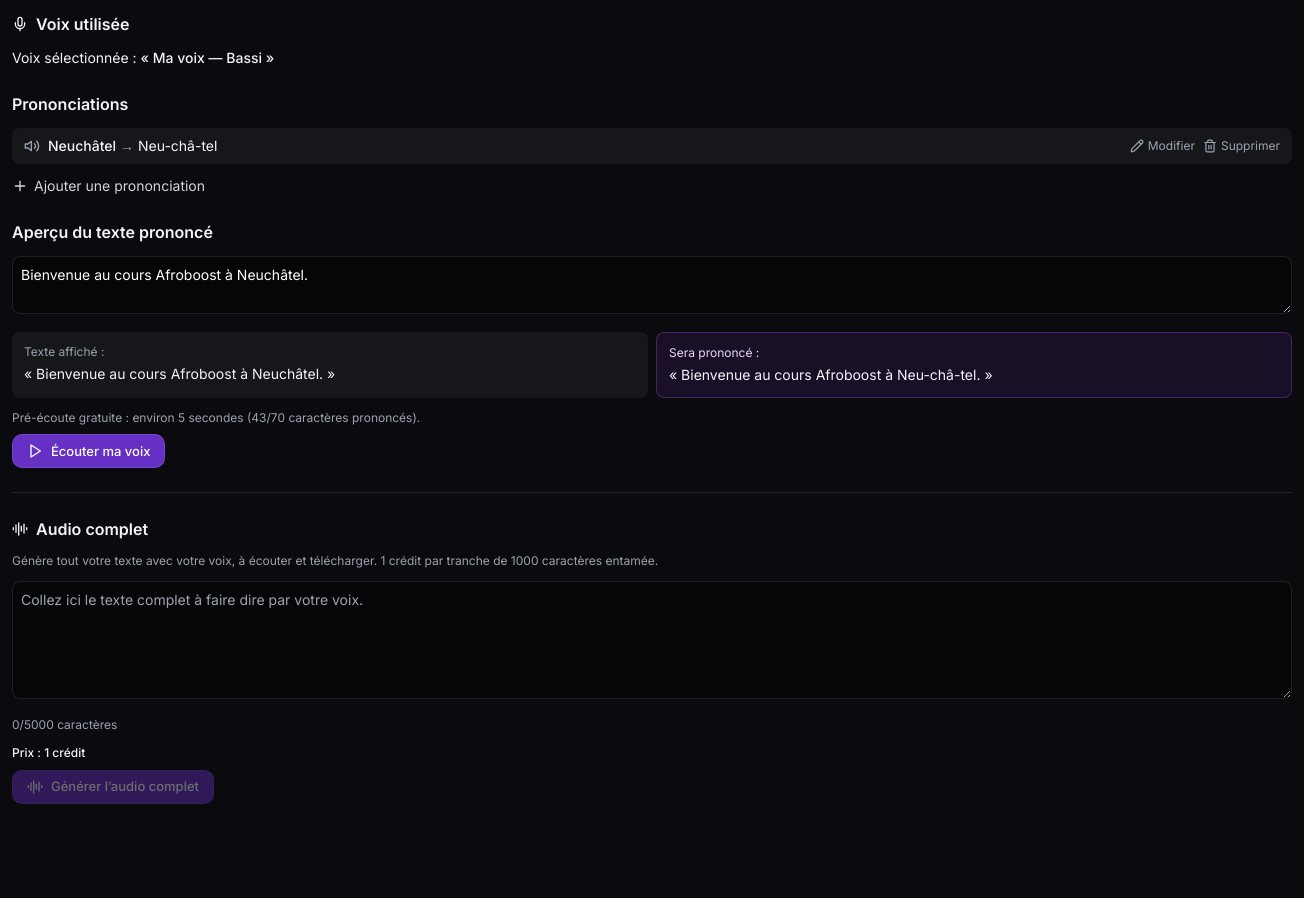
MaVoixPanel — Suggérer / Écouter / Enregistrer › cas difficile : la route serveur est appelée, sa proposition remplace la suggestion locale
Click the button "Ajouter une prononciation" at (108, 186), box top-left (12, 176), bottom-right (205, 196)
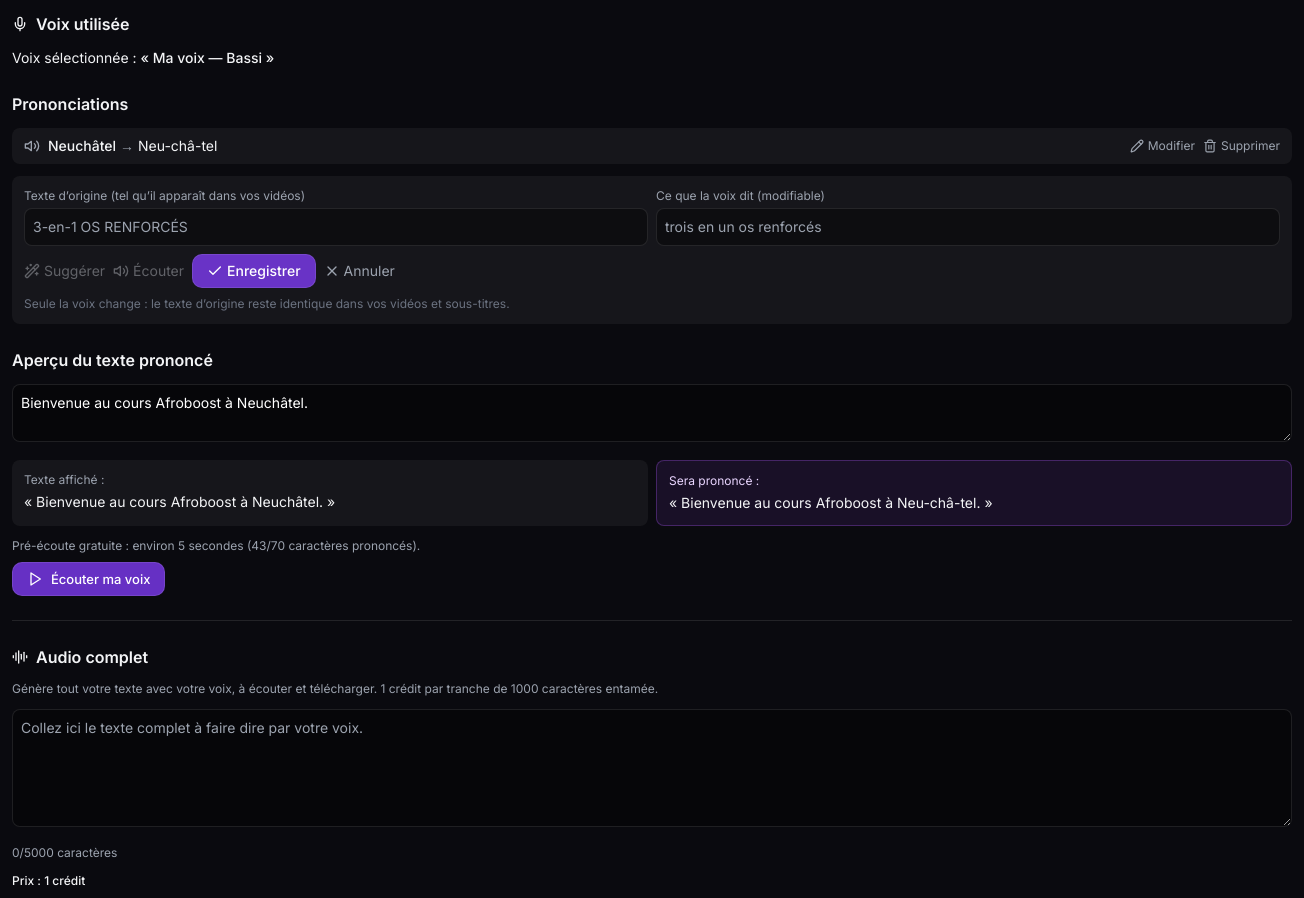
Type "Afroboost" into the field labelled "Texte d’origine (tel qu’il apparaît dans vos vidéos)" at (336, 227), box top-left (24, 208), bottom-right (648, 246)
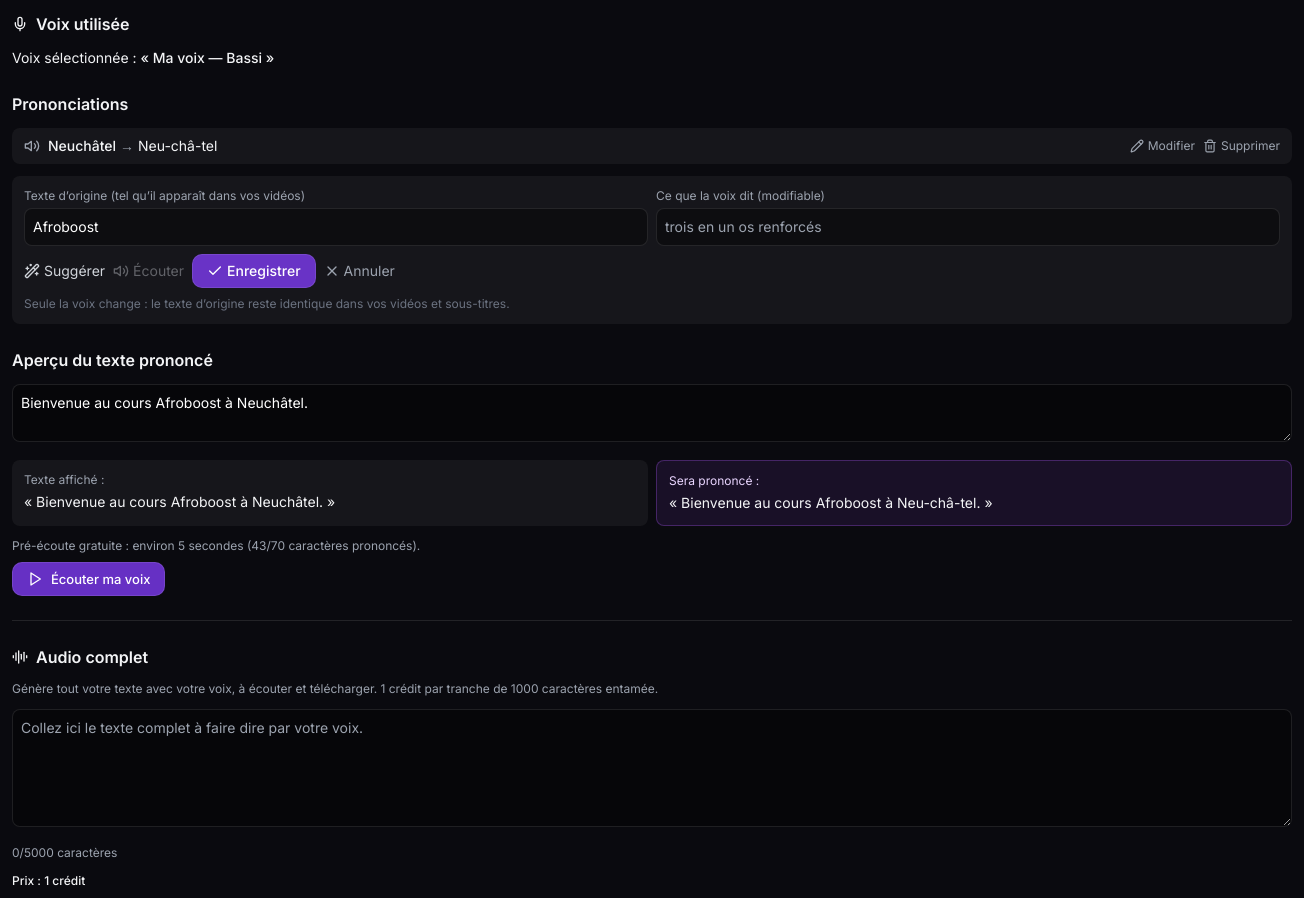
Click the button "Suggérer" at (65, 271), box top-left (24, 254), bottom-right (105, 288)
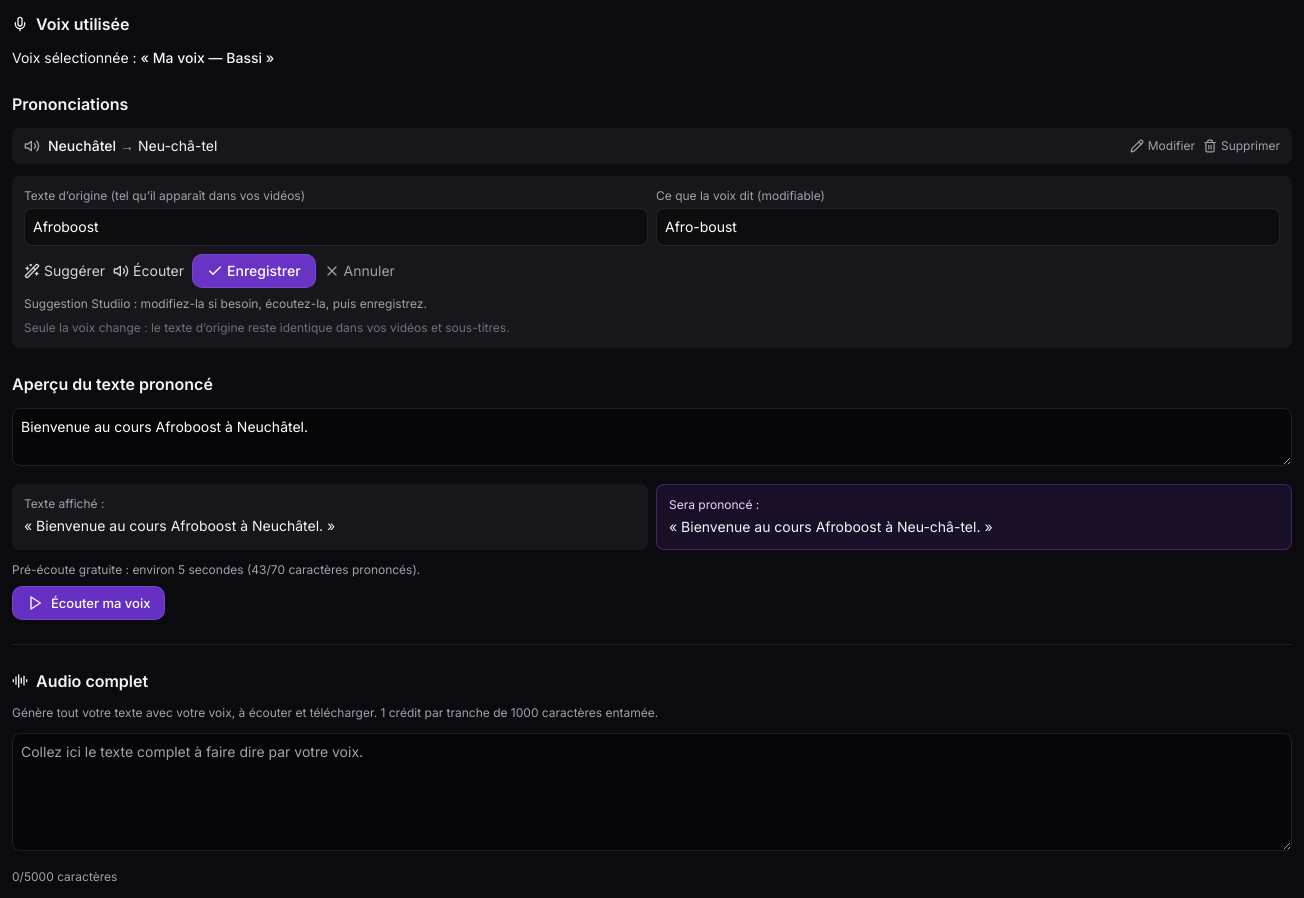
Expected: the field labelled "Ce que la voix dit (modifiable)" holds "Afro-boust", top-left (656, 208), bottom-right (1280, 246)
